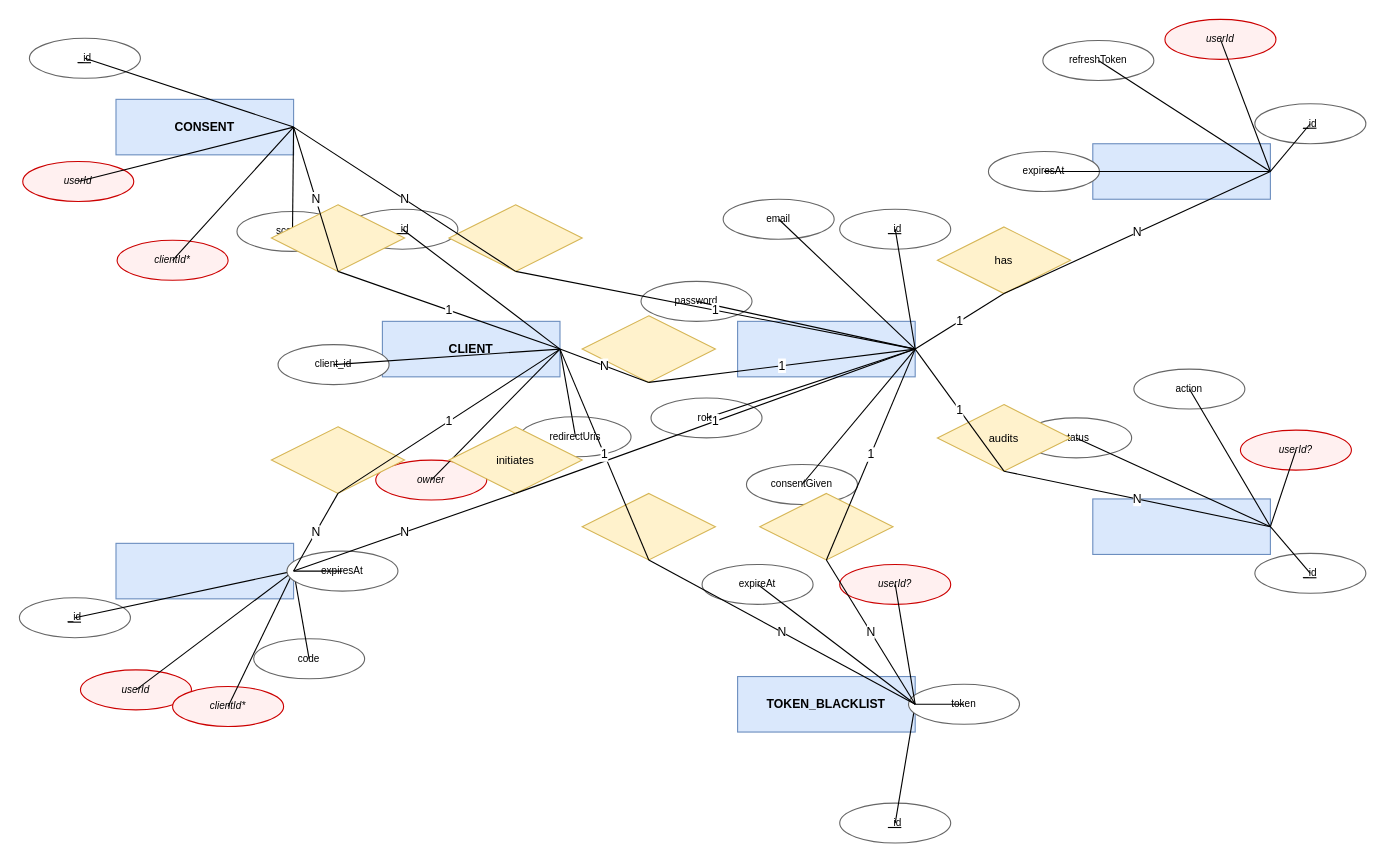
Image size: 1385x862. Some labels were removed from this diagram. Here are the shapes that lost their labels. From the top down, the centre of each, then its label:
At [1181,171]: "SESSION".
At [337,237]: "grants".
At [515,237]: "consents".
At [648,348]: "owns".
At [825,348]: "USER".
At [337,459]: "issues".
At [648,526]: "revokes".
At [826,526]: "blacklists".
At [1181,526]: "SECURITY_AUDIT".
At [204,570]: "AUTHORIZATION_CODE".
